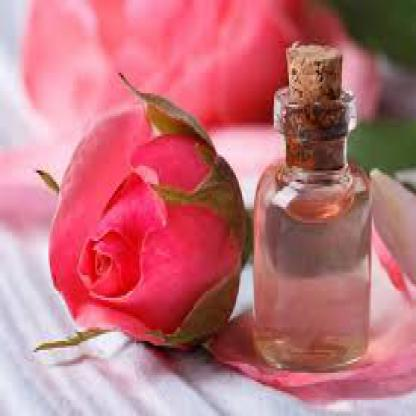Rose-Mawar: (34, 71, 254, 358)
